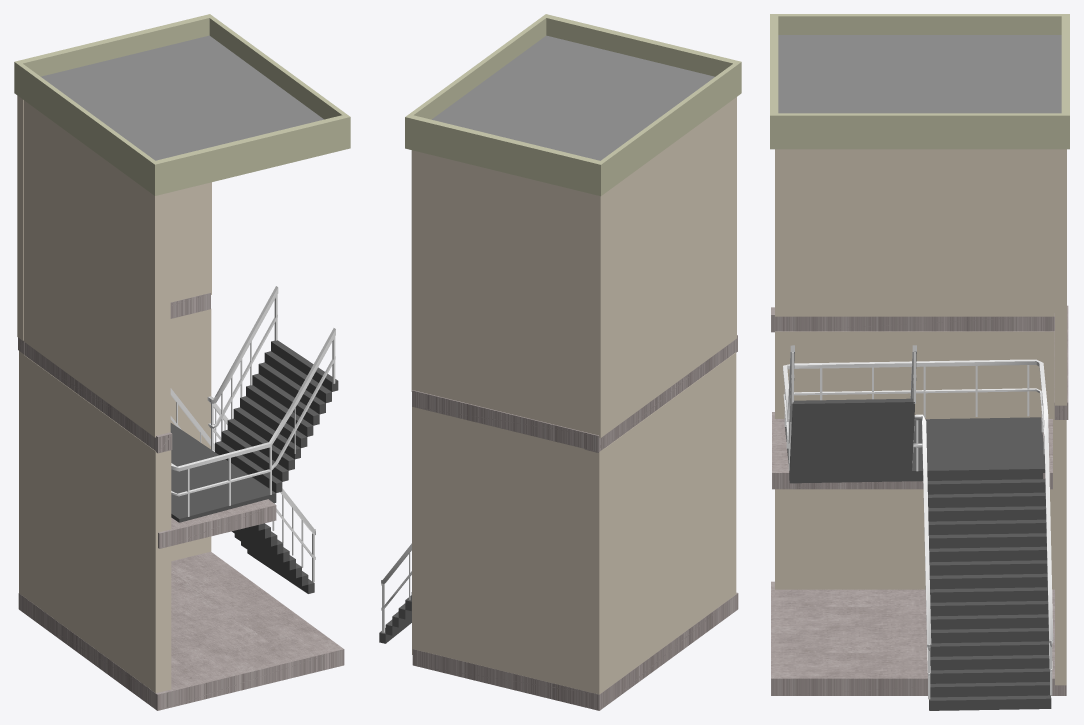
Rendered from 兩層樓梯.fbx.
The picture shows the model from 3 angles, left to right: view 1: azimuth 30°, elevation 25°; view 2: azimuth 150°, elevation 25°; view 3: azimuth 270°, elevation 25°; orthographic projection. The views are drawn at different scales.
Visible parts, largest first — view 1: 建築天花板007, 國中樓梯外牆003, 國中樓梯外牆, 走廊地板1000.320.033, UTypeStair004, 國中樓梯外牆2, 國中樓梯外牆004, Railing005, Railing006, 樓梯地板, 走廊地板1000.320.040, 走廊地板1000.320.041; view 2: 國中樓梯外牆004, 國中樓梯外牆2, 建築天花板007, 國中樓梯外牆, 國中樓梯外牆003, 走廊地板1000.320.033, 走廊地板1000.320.041, 走廊地板1000.320.040, UTypeStair004, Railing005; view 3: 國中樓梯外牆003, UTypeStair004, 建築天花板007, 國中樓梯外牆, 走廊地板1000.320.033, Railing005, 走廊地板1000.320.040, 國中樓梯外牆2, 國中樓梯外牆004, 樓梯地板, Railing006, 走廊地板1000.320.041.
Part boxes in pixels (x1,y1,x2,y2): 建築天花板007: (14, 14, 350, 195); 國中樓梯外牆003: (23, 100, 170, 437); 國中樓梯外牆: (24, 355, 171, 692); 走廊地板1000.320.033: (18, 551, 344, 710); UTypeStair004: (170, 340, 338, 593); 國中樓梯外牆2: (19, 309, 211, 596); 國中樓梯外牆004: (17, 95, 211, 340); Railing005: (170, 328, 335, 516); Railing006: (207, 286, 315, 582); 樓梯地板: (158, 499, 276, 548); 走廊地板1000.320.040: (24, 342, 172, 453); 走廊地板1000.320.041: (18, 293, 210, 354); 國中樓梯外牆004: (411, 150, 606, 437); 國中樓梯外牆2: (412, 407, 604, 694); 建築天花板007: (405, 14, 741, 196); 國中樓梯外牆: (605, 352, 736, 689); 國中樓梯外牆003: (606, 97, 736, 433); 走廊地板1000.320.033: (412, 592, 738, 710); 走廊地板1000.320.041: (412, 390, 605, 452); 走廊地板1000.320.040: (584, 335, 737, 452); UTypeStair004: (379, 592, 411, 643); Railing005: (381, 543, 411, 632); 國中樓梯外牆003: (775, 149, 1054, 316); UTypeStair004: (785, 398, 1051, 710); 建築天花板007: (770, 14, 1069, 149); 國中樓梯外牆: (775, 331, 1054, 589); 走廊地板1000.320.033: (771, 581, 1066, 695); Railing005: (783, 345, 1053, 695); 走廊地板1000.320.040: (771, 307, 1054, 332); 國中樓梯外牆2: (1055, 420, 1066, 685); 國中樓梯外牆004: (1055, 149, 1066, 405); 樓梯地板: (772, 412, 1052, 489); Railing006: (910, 345, 931, 699); 走廊地板1000.320.041: (1054, 305, 1068, 419).
Bounding box in the file's own units: 140 × 311 × 145.
6 materials, 1 textured.
